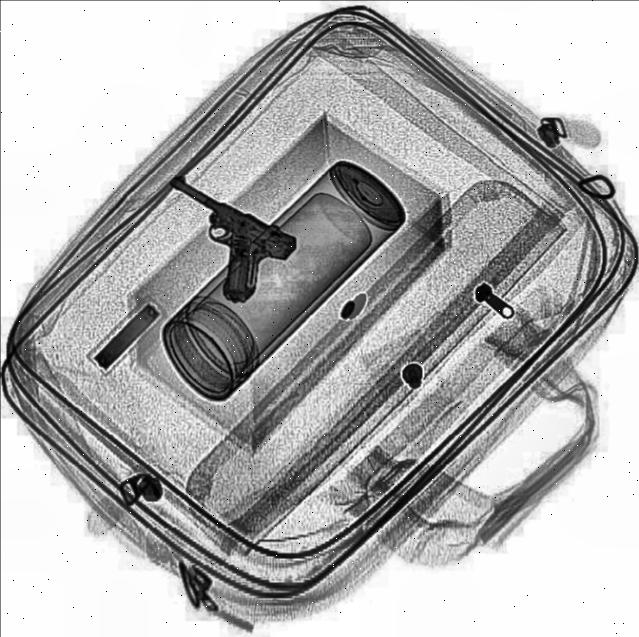Gun: (125, 170, 299, 314)
